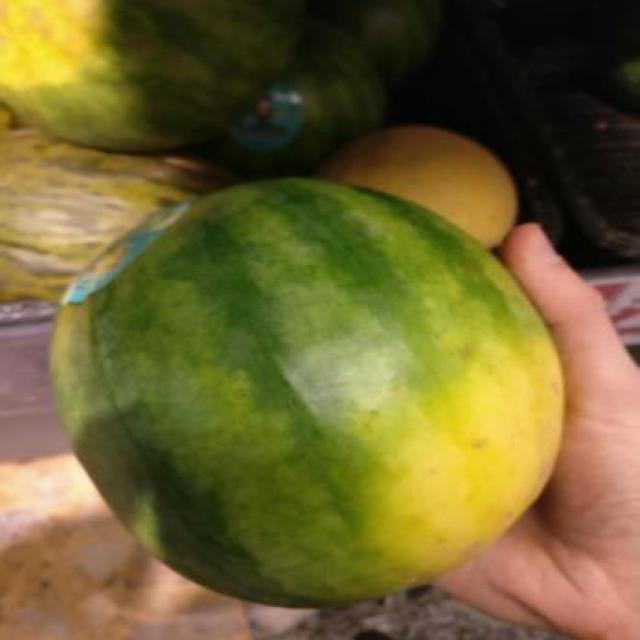Watermelon: (55, 178, 565, 610), (0, 0, 307, 146)
